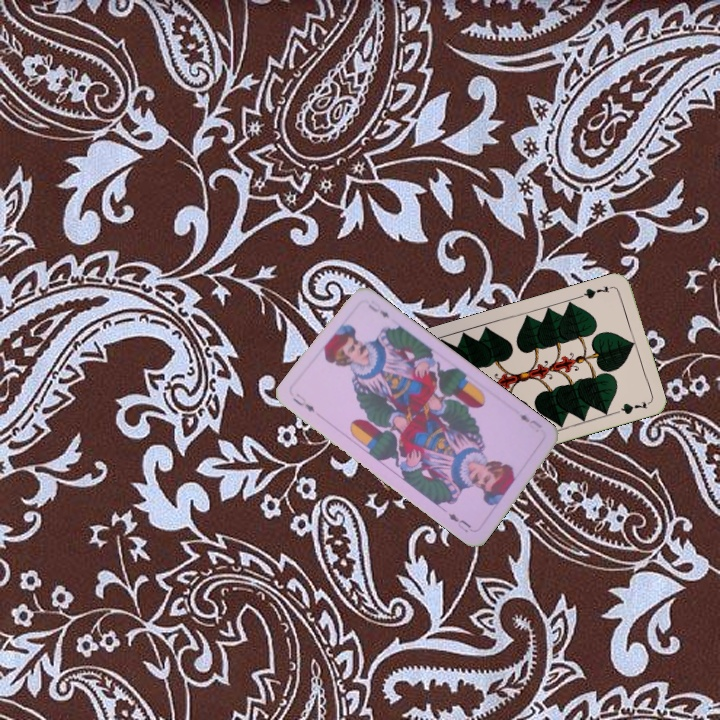EU: (289, 389, 318, 415), (515, 409, 545, 431)
G7: (576, 281, 616, 301)
